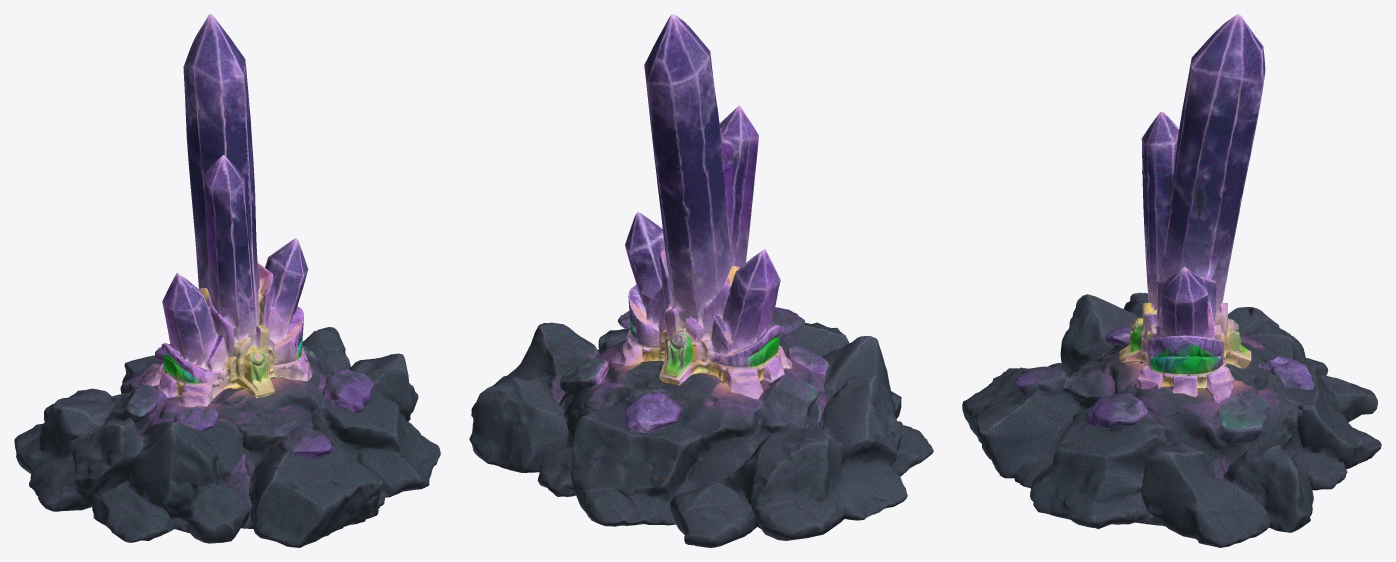
File: descant.glb
3 views of the same model, side by side, from view 1: azimuth 30°, elevation 25°; view 2: azimuth 150°, elevation 25°; view 3: azimuth 270°, elevation 25° (orthographic). The views are drawn at different scales.
Visible parts, largest first — view 1: Mesh_0; view 2: Mesh_0; view 3: Mesh_0.
Part boxes in pixels (<box>): Mesh_0: <box>14,14,440,547</box>; Mesh_0: <box>469,14,933,547</box>; Mesh_0: <box>962,14,1381,547</box>.
Size of the model in its own units: 1.8 by 1.91 by 1.65.
1 material, 1 textured.
